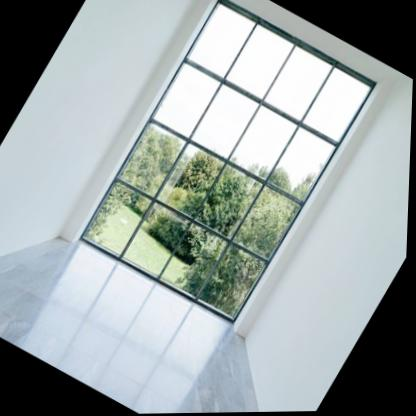Window: (77, 0, 379, 325)
